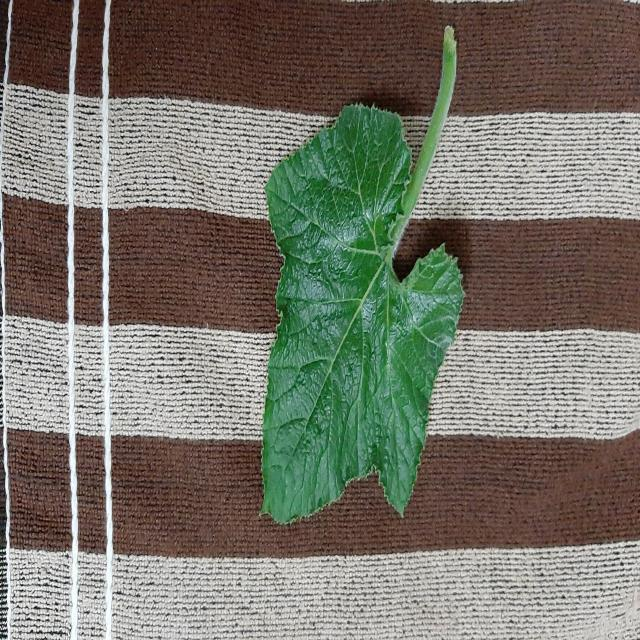pumpkin: (262, 27, 464, 523)
